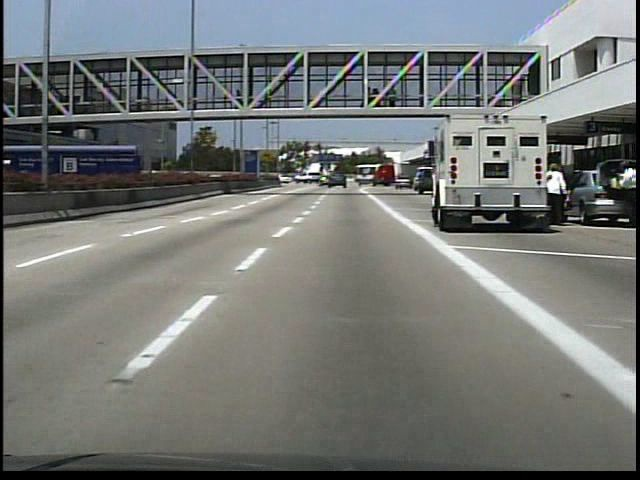person: (613, 162, 639, 228), (545, 157, 567, 228)
